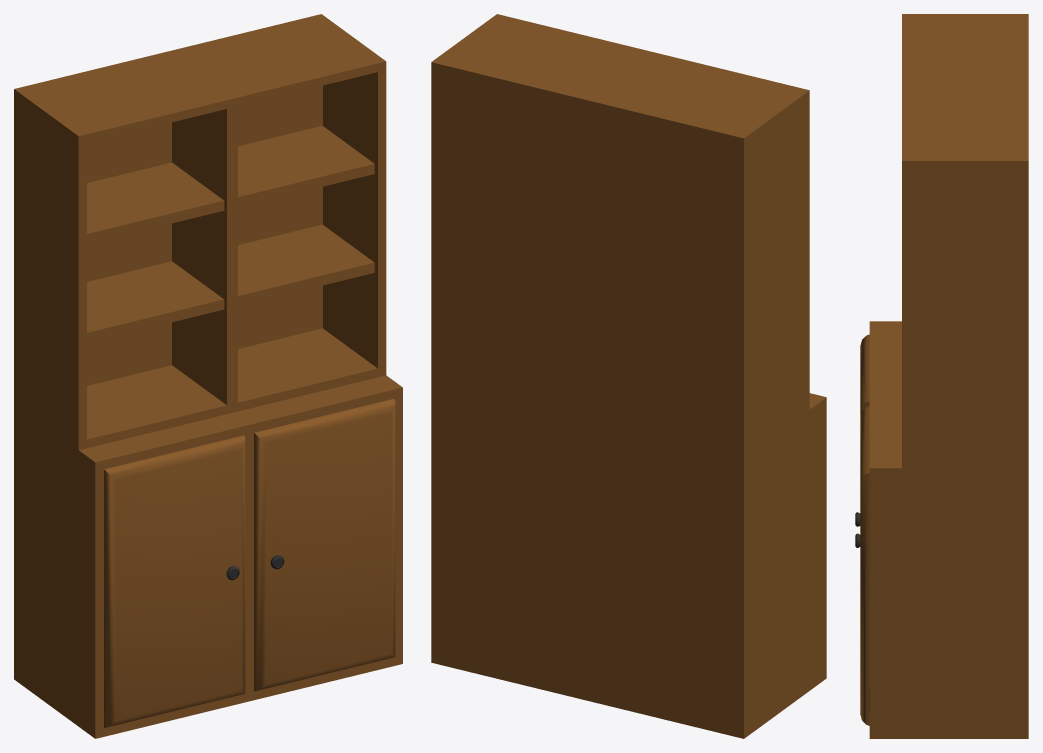
The model's file is furniture_cupboard.fbx.
3 views of the same model, side by side, from view 1: azimuth 30°, elevation 25°; view 2: azimuth 150°, elevation 25°; view 3: azimuth 270°, elevation 25° (orthographic). The views are drawn at different scales.
Visible parts, largest first — view 1: furniture_cupboard, furniture_door_right, furniture_door_left; view 2: furniture_cupboard; view 3: furniture_cupboard, furniture_door_right, furniture_door_left.
Part boxes in pixels (bbox=[...]): furniture_cupboard: bbox=[14, 14, 402, 738]; furniture_door_right: bbox=[254, 399, 395, 691]; furniture_door_left: bbox=[104, 435, 245, 727]; furniture_cupboard: bbox=[431, 14, 826, 738]; furniture_cupboard: bbox=[869, 14, 1028, 738]; furniture_door_right: bbox=[855, 406, 869, 725]; furniture_door_left: bbox=[855, 334, 869, 526].
Bounding box in the file's own units: 98.09 × 180 × 49.
